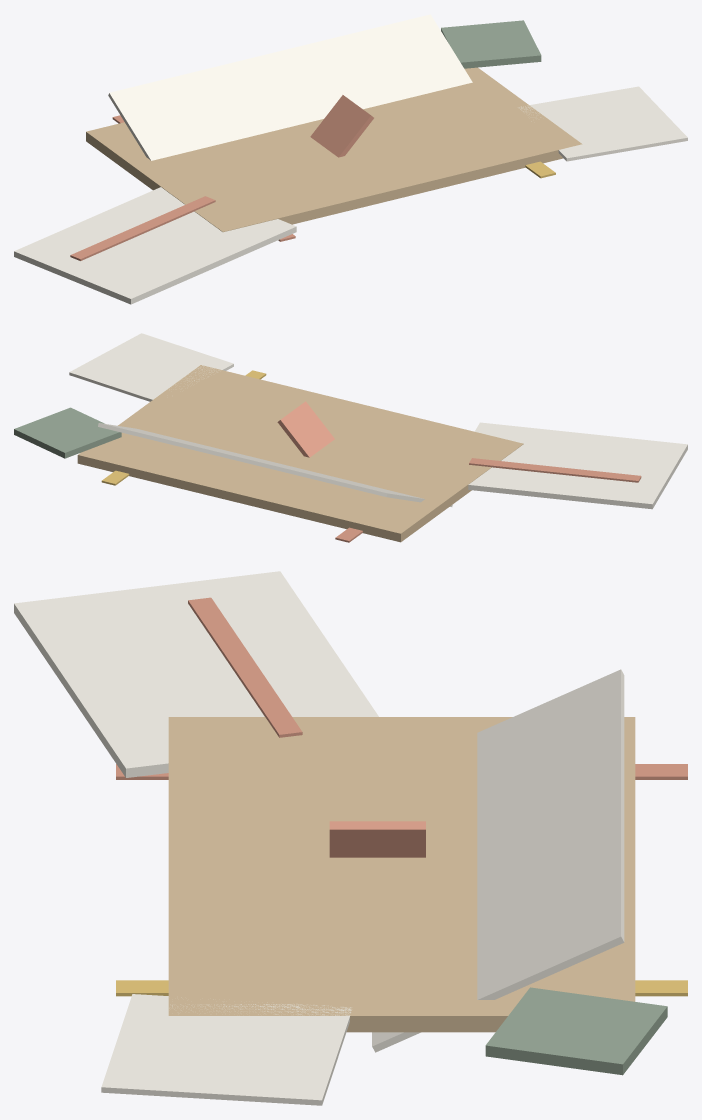
File: contact.gltf
The picture shows the model from 3 angles, top to bottom: view 1: azimuth 30°, elevation 25°; view 2: azimuth 150°, elevation 25°; view 3: azimuth 270°, elevation 25°; orthographic projection. The views are drawn at different scales.
Visible parts, largest first — view 1: EnvelopeBody, EnvelopeFlap, hotspot_postcard, hotspot_qr, hotspot_stamp, EnvelopeSeal, PostcardStripe; view 2: EnvelopeBody, hotspot_postcard, hotspot_qr, hotspot_stamp, EnvelopeFlap, EnvelopeSeal, PostcardStripe, RibbonB; view 3: EnvelopeBody, EnvelopeFlap, hotspot_postcard, hotspot_qr, hotspot_stamp, PostcardStripe, EnvelopeSeal, RibbonB, RibbonA.
Boxes of the visible parts, x1,y1,x2,y2 form: EnvelopeBody: [86, 67, 582, 232]; EnvelopeFlap: [108, 14, 472, 160]; hotspot_postcard: [14, 187, 296, 304]; hotspot_qr: [518, 86, 687, 161]; hotspot_stamp: [441, 20, 541, 68]; EnvelopeSeal: [310, 95, 373, 157]; PostcardStripe: [70, 196, 215, 260]; EnvelopeBody: [77, 365, 523, 542]; hotspot_postcard: [468, 422, 687, 509]; hotspot_qr: [69, 333, 233, 401]; hotspot_stamp: [14, 407, 121, 458]; EnvelopeFlap: [98, 423, 452, 506]; EnvelopeSeal: [277, 401, 334, 457]; PostcardStripe: [469, 458, 641, 482]; RibbonB: [101, 370, 266, 485]; EnvelopeBody: [168, 717, 635, 1032]; EnvelopeFlap: [372, 669, 624, 1052]; hotspot_postcard: [14, 571, 378, 777]; hotspot_qr: [101, 994, 351, 1105]; hotspot_stamp: [485, 987, 667, 1075]; PostcardStripe: [188, 597, 302, 737]; EnvelopeSeal: [329, 821, 425, 857]; RibbonB: [116, 980, 687, 996]; RibbonA: [116, 764, 687, 779].
Bounding box in the file's own units: 4.16 × 0.4258 × 2.24.
